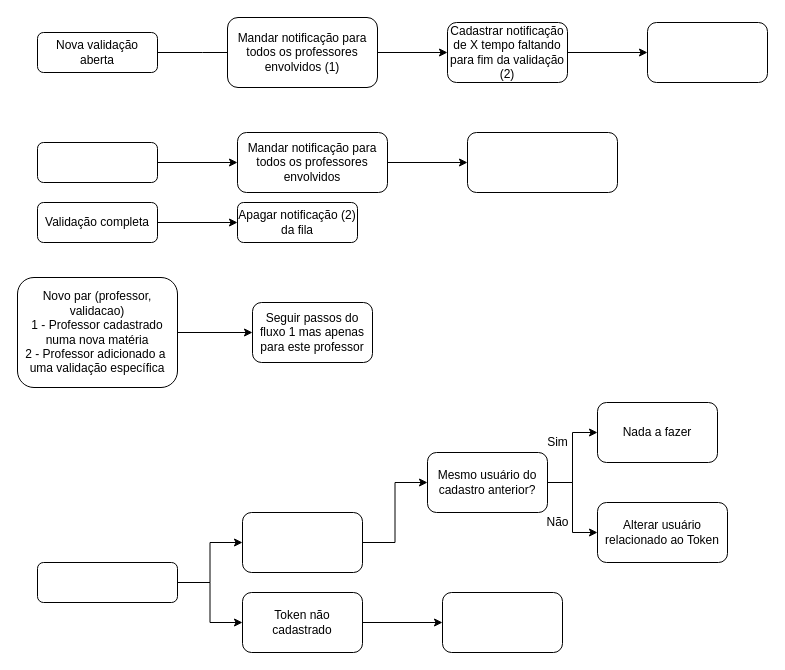
Image size: 785x670. Some labels were removed from this diagram. Here are the shapes that lost their labels. From the top down, the centre of each, then its label:
(x=707, y=52): Cadastrar notificação de fim da validação (3)
(x=97, y=162): Data de fim da validação alterada
(x=542, y=162): Atualizar datas das notificações (2) e (3)
(x=302, y=542): Token já cadastrado
(x=107, y=582): ExponentTokenHandler
(x=502, y=622): Cadastrar com usuário
